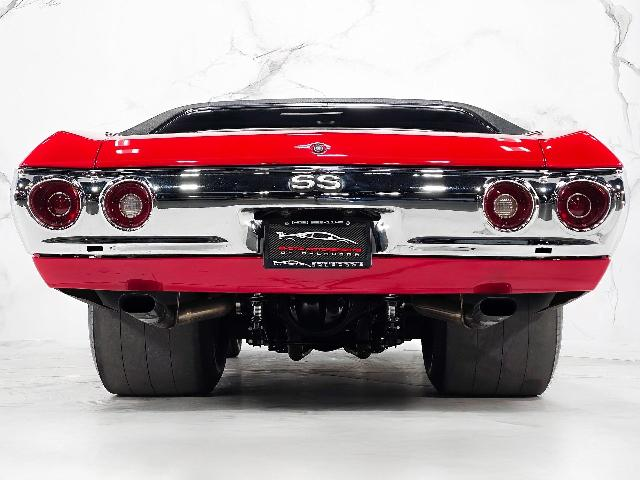chevelle-1972: (9, 98, 632, 396), (11, 99, 630, 396)
